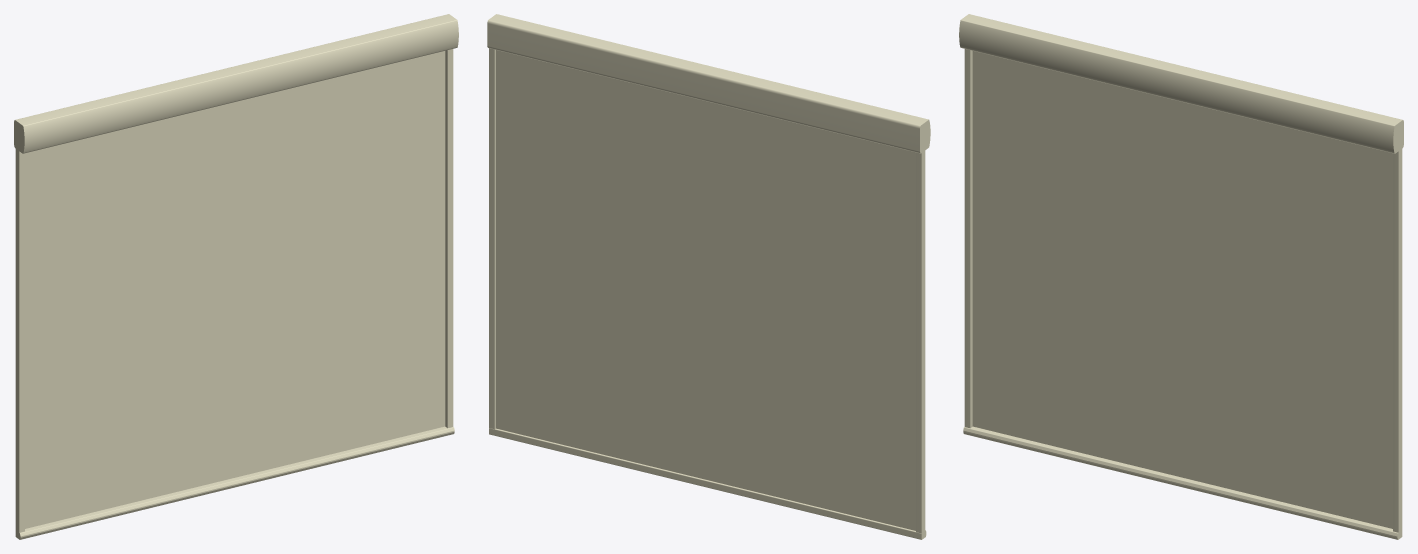
The model's file is 1013_zipper automatic curtain system.glb.
3 views of the same model, side by side, from view 1: azimuth 30°, elevation 25°; view 2: azimuth 150°, elevation 25°; view 3: azimuth 330°, elevation 25° (orthographic).
Visible parts, largest first — view 1: group__n3d, Main Profile_n3d, Lower Puller Profil_n3d, Side Channel_n3d2, Side Channel_n3d; view 2: group__n3d, Main Profile_n3d, Side Channel_n3d2, Lower Puller Profil_n3d, Side Channel_n3d; view 3: group__n3d, Main Profile_n3d, Lower Puller Profil_n3d, Side Channel_n3d, Side Channel_n3d2.
Boxes of the visible parts, x1,y1,x2,y2 form: group__n3d: (25,51,445,528); Main Profile_n3d: (14,14,458,153); Lower Puller Profil_n3d: (15,426,454,539); Side Channel_n3d2: (15,149,24,532); Side Channel_n3d: (445,49,453,428); group__n3d: (496,50,915,530); Main Profile_n3d: (487,14,930,153); Side Channel_n3d2: (916,151,925,533); Lower Puller Profil_n3d: (489,428,926,539); Side Channel_n3d: (489,48,495,429); group__n3d: (972,51,1392,528); Main Profile_n3d: (959,14,1403,153); Lower Puller Profil_n3d: (963,426,1402,539); Side Channel_n3d: (1393,149,1402,532); Side Channel_n3d2: (964,49,972,428).
Size of the model in its own units: 2.4 by 2.2 by 0.101.
